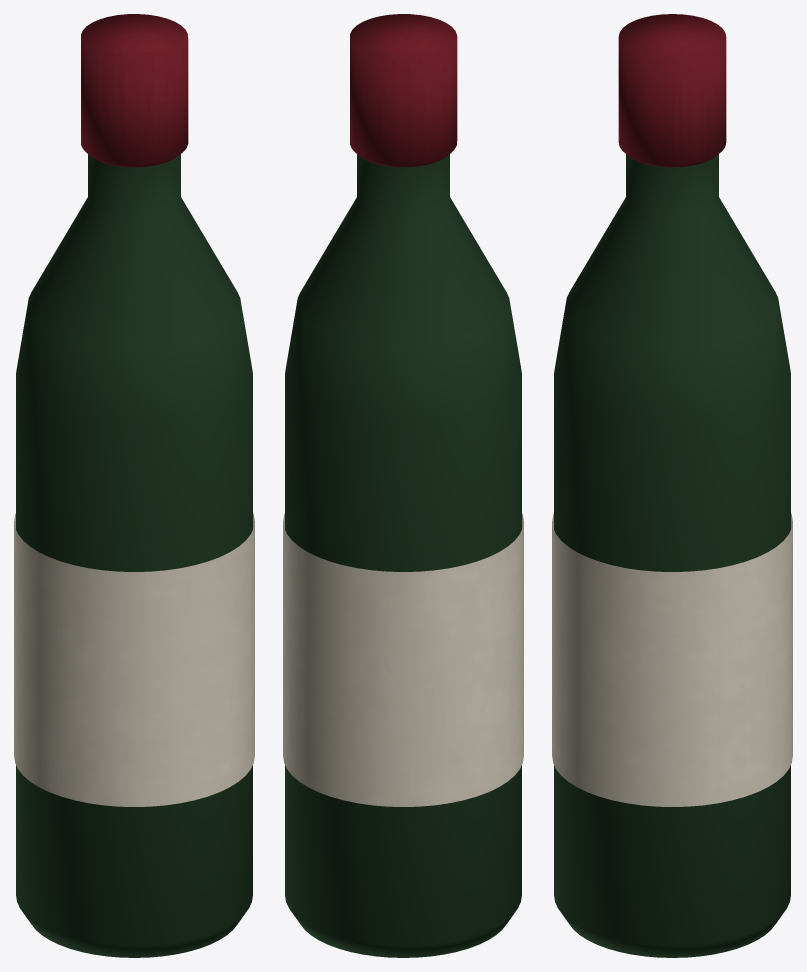
The model's file is wine-red.glb.
The picture shows the model from 3 angles, left to right: view 1: azimuth 30°, elevation 25°; view 2: azimuth 150°, elevation 25°; view 3: azimuth 270°, elevation 25°; orthographic projection.
Parts seen in each view (by area): view 1: bottle_glass, label_paper, foil; view 2: bottle_glass, label_paper, foil; view 3: bottle_glass, label_paper, foil.
Part boxes in pixels (x1,y1,x2,y2): bottle_glass: (16, 154, 252, 957); label_paper: (14, 513, 254, 806); foil: (81, 14, 188, 167); bottle_glass: (285, 154, 521, 957); label_paper: (283, 513, 523, 806); foil: (350, 14, 457, 167); bottle_glass: (554, 154, 790, 957); label_paper: (552, 513, 792, 806); foil: (618, 14, 726, 167).
Size of the model in its own units: 0.0752 by 0.302 by 0.0752.
Materials: 3 (2 with a texture image).
